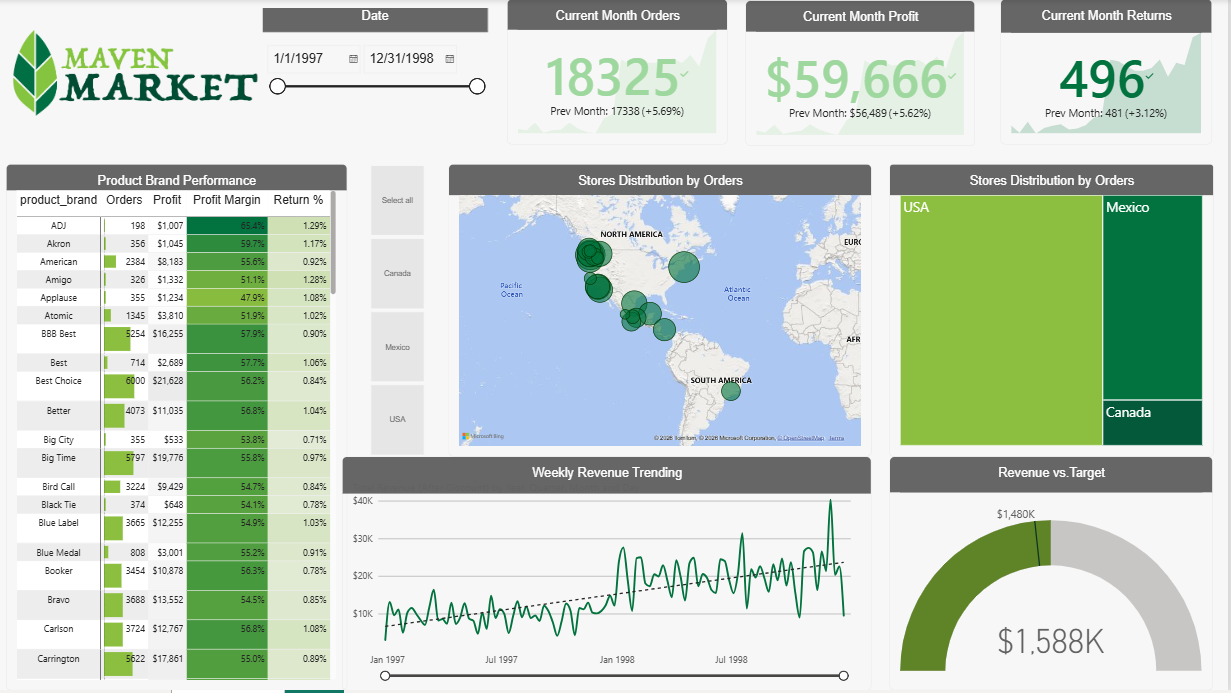

The page's visual inventory and layout, read from the dashboard file:
{"tool":"powerbi","page":{"name":"Page 1","canvas":[1920,1080],"ordinal":0},"visuals":[{"type":"image","box":[9.4,0,400.9,147.7],"z":0},{"type":"pivotTable","fields":{"Rows":["MavenMarket_Products.product_brand"],"Values":["Measuress.Total Transactions","Measuress.Total Profit","Measuress.Profit Margin","Measuress.Return Rate"]},"box":[9.4,257.9,504.1,822.9],"z":1},{"type":"map","title":"Stores Distribution by Orders","fields":{"Category":["MavenMarket_Stores.store_city","MavenMarket_Stores.store_state","MavenMarket_Stores.store_country"],"Size":["Measuress.Total Transactions"]},"box":[701,257.9,661.1,457.2],"z":2},{"type":"slicer","fields":{"Values":["MavenMarket_Stores.store_country"]},"box":[513.4,257.9,152.4,457.2],"z":3},{"type":"treemap","title":"Stores Distribution by Orders","fields":{"Group":["MavenMarket_Stores.store_country","MavenMarket_Stores.store_state","MavenMarket_Stores.store_city"],"Values":["Measuress.Total Transactions"]},"box":[1390.3,257.9,506.4,457.2],"z":4},{"type":"lineChart","title":"Weekly Revenue Trending","fields":{"Category":["MavenMarket_Calendar.Start_of_Week.Variation.Date Hierarchy.Year","MavenMarket_Calendar.Start_of_Week.Variation.Date Hierarchy.Quarter","MavenMarket_Calendar.Start_of_Week.Variation.Date Hierarchy.Month","MavenMarket_Calendar.Start_of_Week.Variation.Date Hierarchy.Day"],"Y":["Measuress.Total Revenue (After Discount)"]},"box":[534.5,715.1,855.7,365.7],"z":5},{"type":"kpi","title":"Current Month Orders","fields":{"Goal":["Measuress.Last Month Transaction"],"Indicator":["Measuress.Total Transactions"],"TrendLine":["MavenMarket_Calendar.Start_of_Month"]},"box":[792.4,0,344.6,227.4],"z":6},{"type":"slicer","title":"Date","fields":{"Values":["MavenMarket_Calendar.date"]},"box":[410.3,14.1,351.7,215.7],"z":7},{"type":"kpi","title":"Current Month Profit","fields":{"Goal":["Measuress.Last Month Profit"],"Indicator":["Measuress.Total Profit"],"TrendLine":["MavenMarket_Calendar.Start_of_Month"]},"box":[1165.2,2.3,358.7,227.4],"z":8},{"type":"kpi","title":"Current Month Returns","fields":{"Goal":["Measuress.Last Month Returns"],"Indicator":["Measuress.Total Returns"],"TrendLine":["MavenMarket_Calendar.Start_of_Month"]},"box":[1563.8,0,330.6,227.4],"z":9},{"type":"gauge","title":"Revenue vs.Target","fields":{"TargetValue":["Measuress.Last Month Revenue"],"Y":["Measuress.Total Revenue (After Discount)"]},"box":[1391,715,505,365],"z":10}]}

Visuals, with their boxes in screenshot pixels (x1, y1, x2, y2), scaled from the page's 1920x1080 canvas onto the 1231x693 screenshot:
image: pyautogui.locateOnScreen(6, 0, 263, 95)
pivotTable - MavenMarket_Products.product_brand x Measuress.Total Transactions: pyautogui.locateOnScreen(6, 165, 329, 692)
"Stores Distribution by Orders" map: pyautogui.locateOnScreen(449, 165, 873, 459)
slicer - MavenMarket_Stores.store_country: pyautogui.locateOnScreen(329, 165, 427, 459)
"Stores Distribution by Orders" treemap: pyautogui.locateOnScreen(891, 165, 1216, 459)
"Weekly Revenue Trending" lineChart: pyautogui.locateOnScreen(343, 459, 891, 692)
"Current Month Orders" kpi: pyautogui.locateOnScreen(508, 0, 729, 146)
"Date" slicer: pyautogui.locateOnScreen(263, 9, 489, 147)
"Current Month Profit" kpi: pyautogui.locateOnScreen(747, 1, 977, 147)
"Current Month Returns" kpi: pyautogui.locateOnScreen(1003, 0, 1215, 146)
"Revenue vs.Target" gauge: pyautogui.locateOnScreen(892, 459, 1216, 692)
